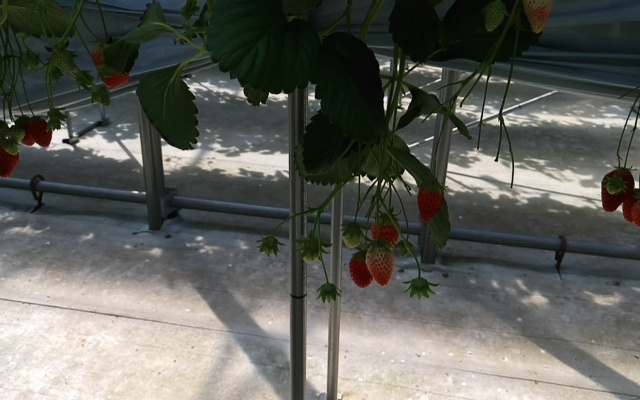GreenStrawberry: (364, 241, 396, 287), (522, 1, 555, 33), (481, 1, 508, 35), (48, 47, 77, 75), (4, 125, 26, 156), (341, 222, 362, 249), (301, 237, 320, 264), (607, 176, 624, 195)
MatureStrawberry: (92, 37, 131, 92), (599, 164, 634, 216), (372, 211, 401, 251), (417, 182, 443, 225), (348, 249, 374, 290), (1, 140, 23, 180), (29, 114, 54, 149), (15, 113, 39, 147), (624, 189, 640, 223)
